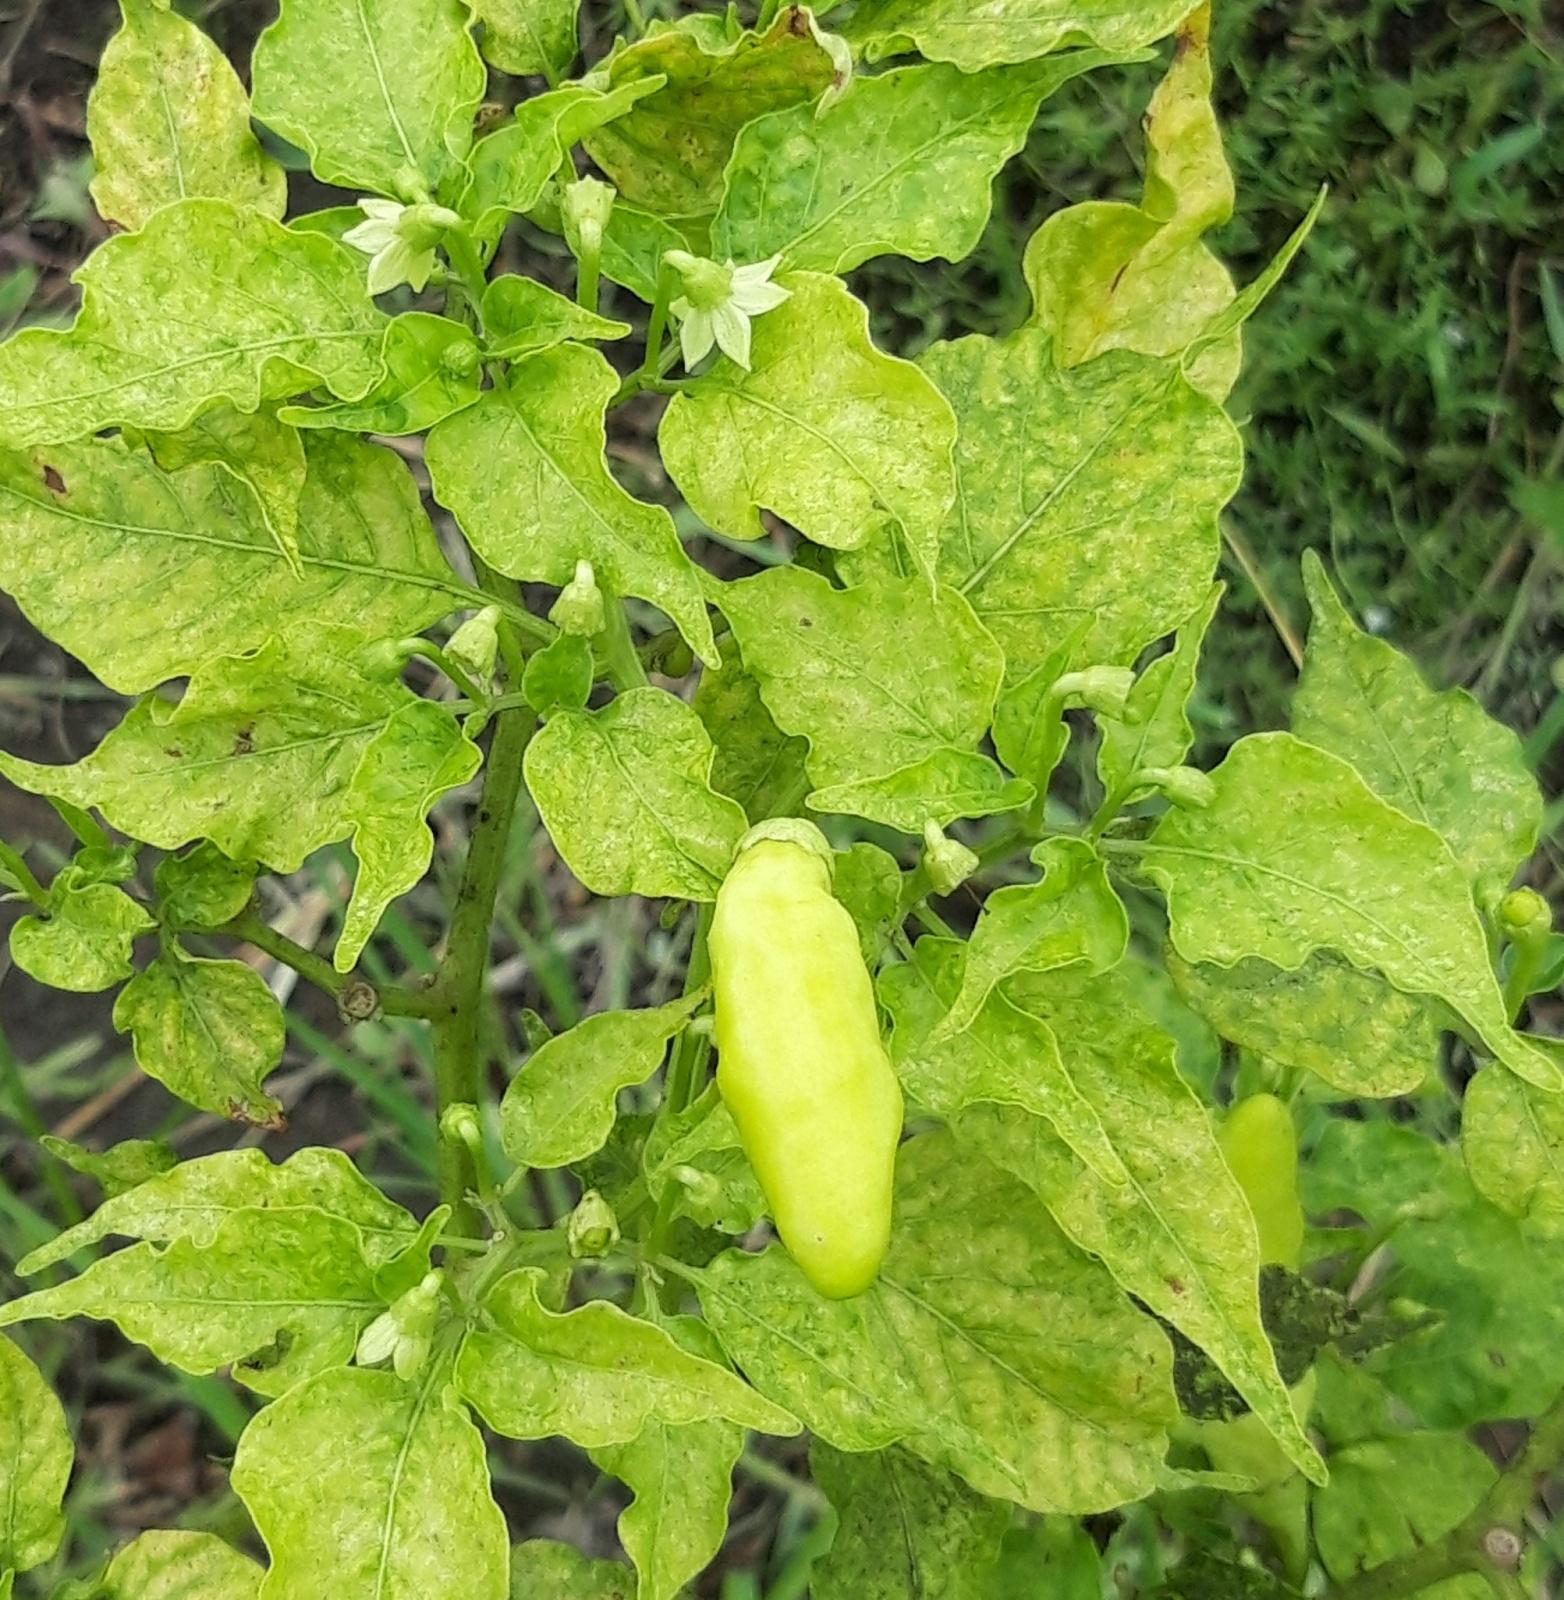cabai_normal: (708, 847, 905, 1301)
